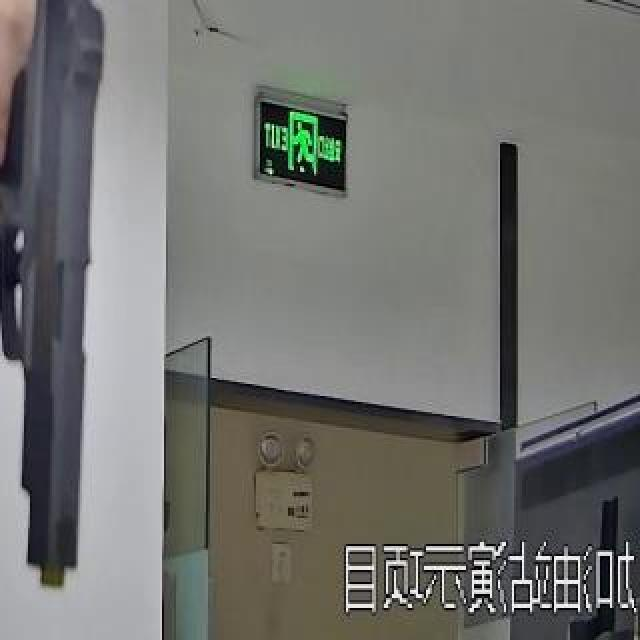Guns: (0, 0, 168, 622)
